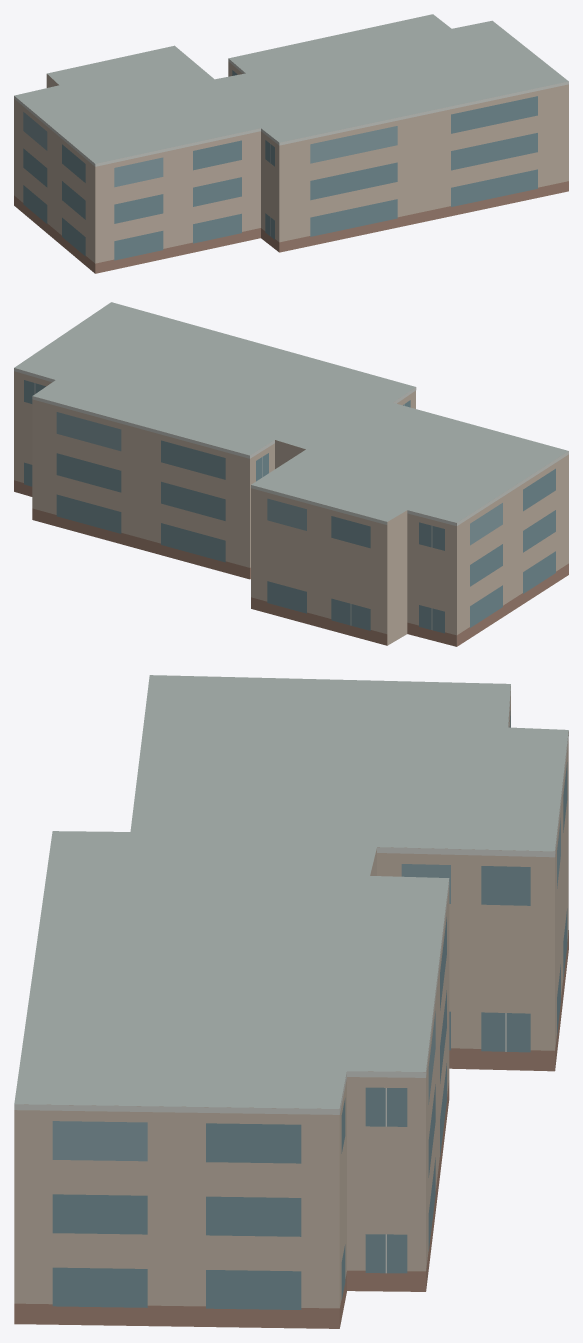
The model's file is survey-upis-32886325.glb.
The picture shows the model from 3 angles, top to bottom: view 1: azimuth 30°, elevation 25°; view 2: azimuth 150°, elevation 25°; view 3: azimuth 270°, elevation 25°; orthographic projection. The views are drawn at different scales.
Visible parts, largest first — view 1: survey-upis-32886325.tmp; view 2: survey-upis-32886325.tmp; view 3: survey-upis-32886325.tmp.
Boxes of the visible parts, left/top/right/bottom form: survey-upis-32886325.tmp: left=14, top=14, right=568, bottom=273; survey-upis-32886325.tmp: left=14, top=302, right=568, bottom=646; survey-upis-32886325.tmp: left=14, top=675, right=568, bottom=1328.
Bounding box in the file's own units: 38.76 × 9.15 × 20.93.
